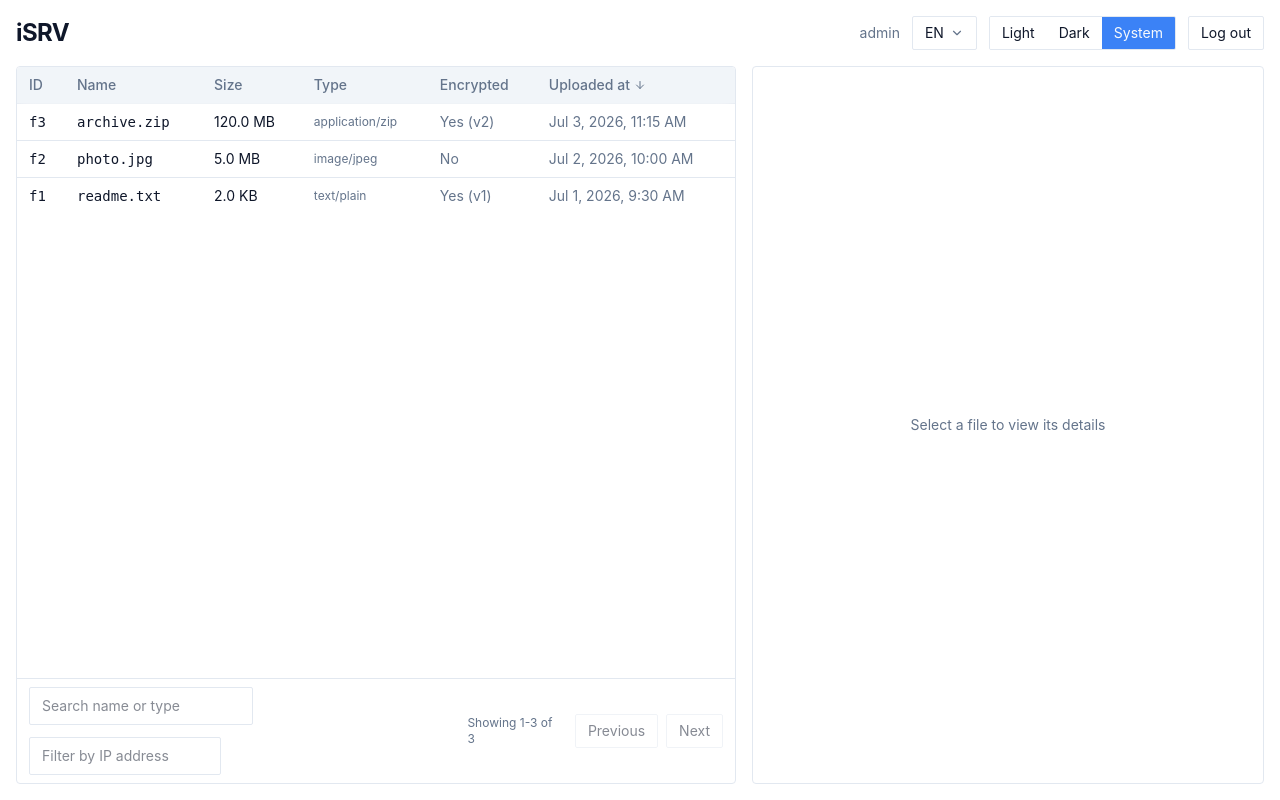
Test: admin login › logs out back to the login form
Expected: the text "readme.txt" is shown, [77,188,161,204]
Click the button "Log out" at {"x": 1226, "y": 33}, box [1188,16,1264,50]
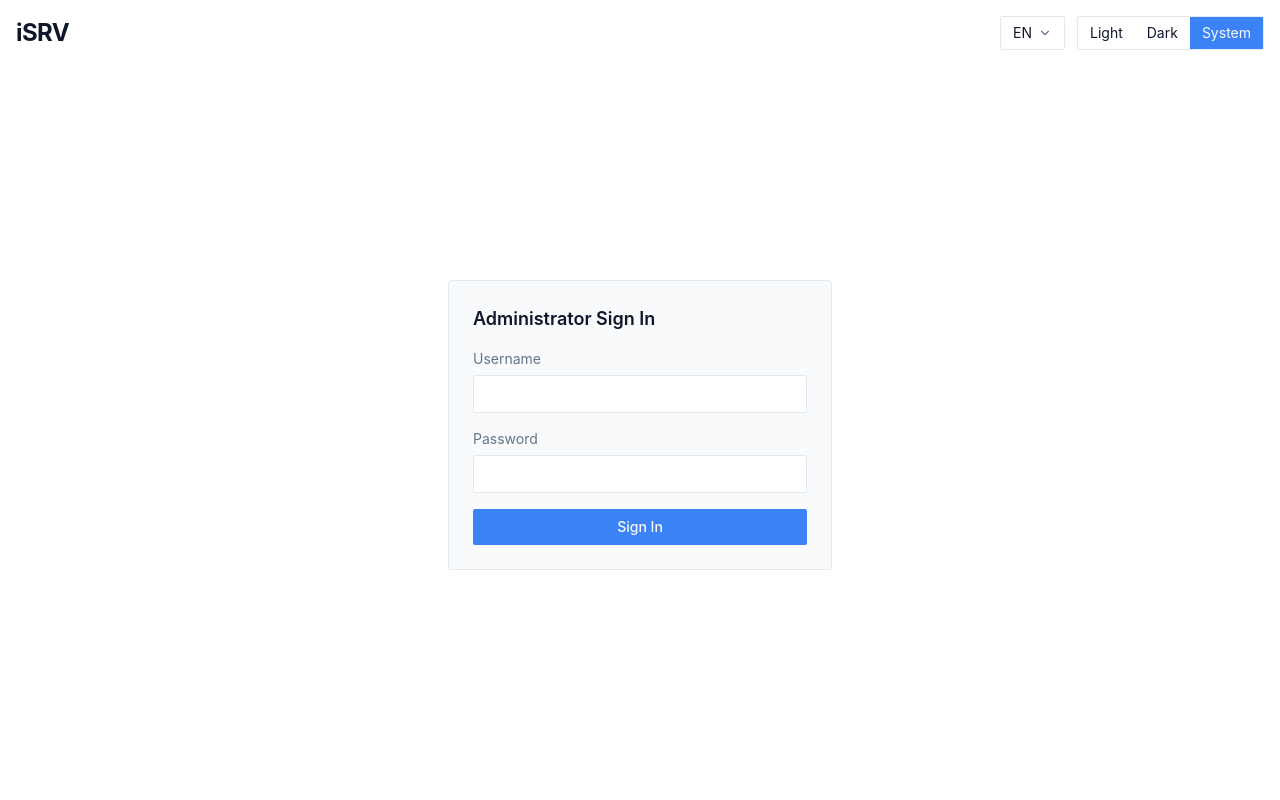
Expected: the heading "Administrator Sign In" is shown, [473,308,655,329]
